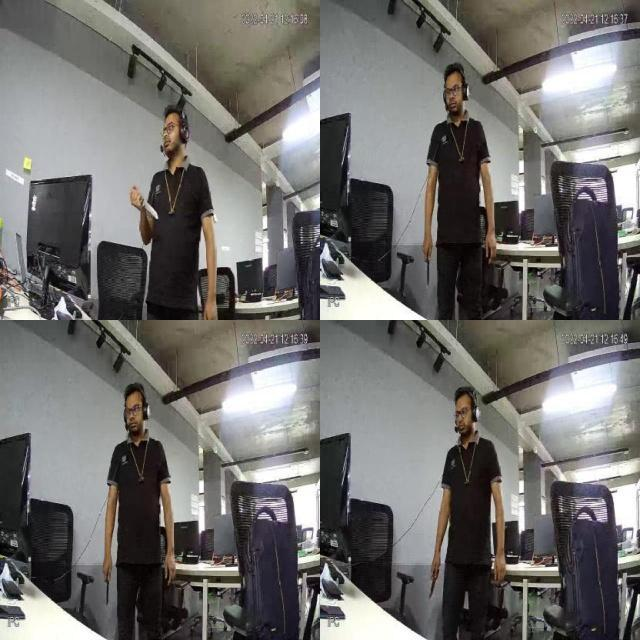-: (136, 195, 158, 225), (425, 569, 436, 602), (423, 247, 432, 287), (102, 572, 110, 608)
